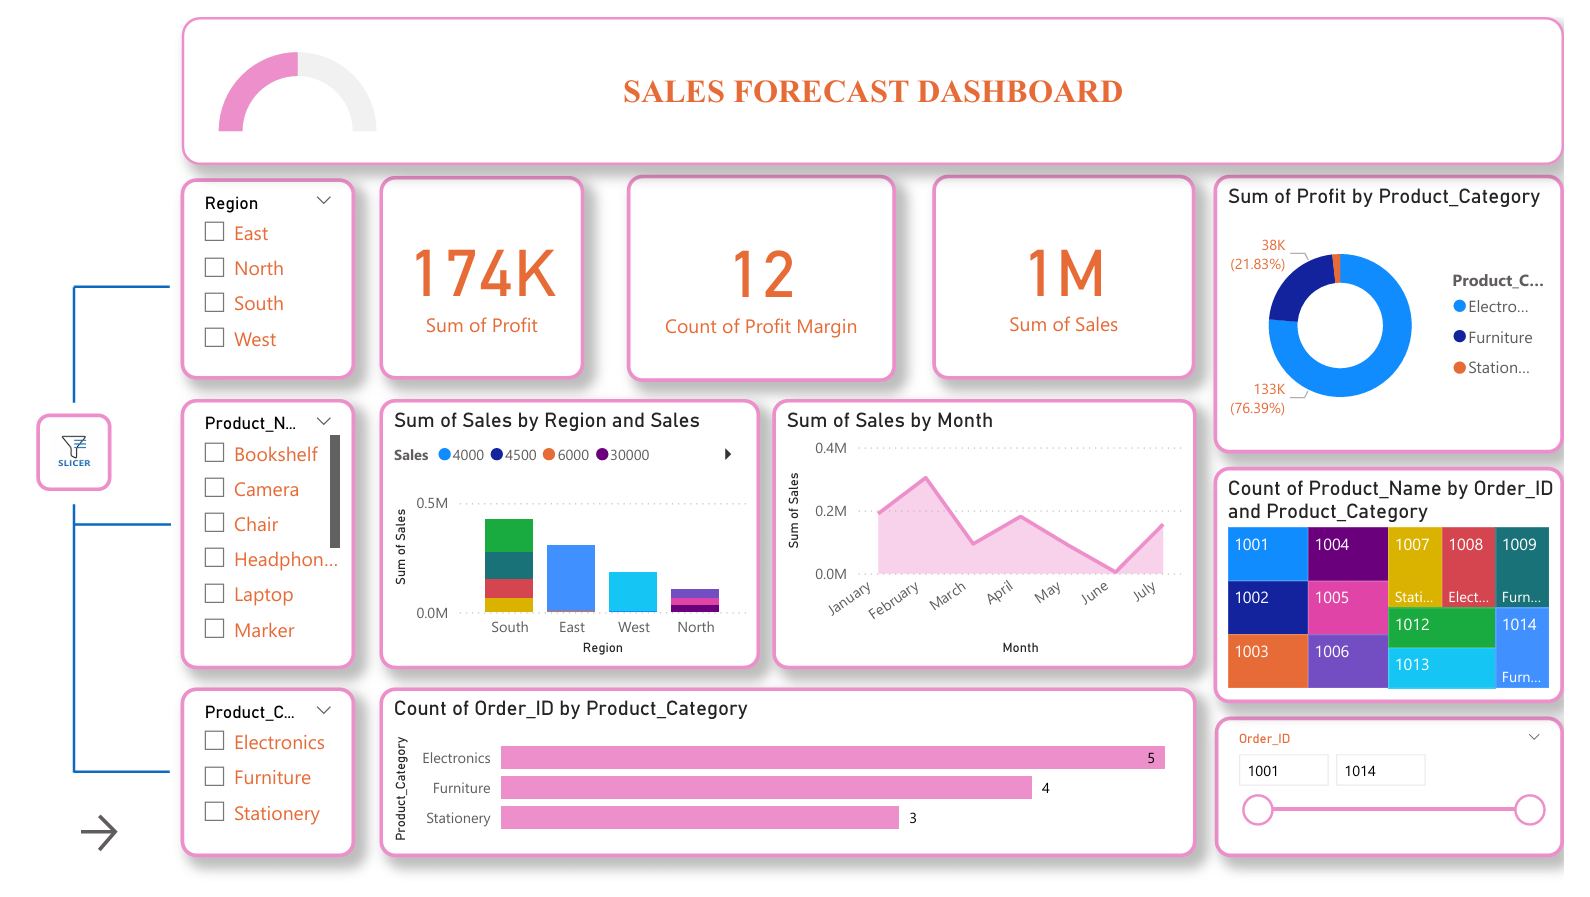

What the dashboard file says about the page in this screenshot:
{"tool":"powerbi","page":{"name":"Page 1","canvas":[1280,720],"ordinal":0},"visuals":[{"type":"card","fields":{"Values":["Sum(Sheet1.Sales)"]},"box":[759.3,129.8,217.1,168.9],"z":0},{"type":"card","fields":{"Values":["Sum(Sheet1.Profit)"]},"box":[303.3,131,168.9,167.7],"z":1000},{"type":"card","fields":{"Values":["CountNonNull(Sheet1.Profit Margin)"]},"box":[506.6,129.8,222.8,171.2],"z":2000},{"type":"columnChart","fields":{"Category":["Sheet1.Region"],"Y":["Sum(Sheet1.Sales)"],"Series":["Sheet1.Sales"]},"box":[303.5,315.1,314,223.3],"z":3000},{"type":"lineChart","fields":{"Y":["Sum(Sheet1.Sales)"],"Category":["Sheet1.Order_Date.Variation.Date Hierarchy.Month"]},"box":[626.7,315.1,350,223.3],"z":4000},{"type":"donutChart","fields":{"Y":["Sum(Sheet1.Profit)"],"Category":["Sheet1.Product_Category"]},"box":[991.3,129.8,288.3,229.7],"z":5000},{"type":"slicer","fields":{"Values":["Sheet1.Region"]},"box":[139,133.2,143.6,165.4],"z":6000},{"type":"slicer","fields":{"Values":["Sheet1.Product_Category"]},"box":[139,552.5,143.6,140.1],"z":7000},{"type":"slicer","fields":{"Values":["Sheet1.Product_Name"]},"box":[139,314.7,143.6,222.8],"z":8000},{"type":"slicer","fields":{"Values":["Sheet1.Order_ID"]},"box":[991.9,576.7,288.4,116.3],"z":9000},{"type":"treemap","fields":{"Group":["Sheet1.Order_ID"],"Values":["CountNonNull(Sheet1.Product_Name)"],"Details":["Sheet1.Product_Category"]},"box":[991.3,371,288.3,195.3],"z":10000},{"type":"textbox","box":[139.5,0,1140.7,122.1],"z":11000},{"type":"image","box":[19.5,327.4,62,63.2],"z":12000},{"type":"shape","box":[50.5,203.3,79.3,39.1],"z":13000},{"type":"shape","box":[11.5,222.8,79.3,95.3],"z":14000},{"type":"shape","box":[51.7,398.6,79.3,39.1],"z":15000},{"type":"shape","box":[50.5,603.1,79.3,39.1],"z":16000},{"type":"shape","box":[11.5,402,79.3,220.5],"z":17000},{"type":"gauge","fields":{"Y":["Sum(Sheet1.Profit)"]},"box":[155.8,24.4,159.3,74.4],"z":18000},{"type":"clusteredBarChart","fields":{"Y":["CountNonNull(Sheet1.Order_ID)"],"Category":["Sheet1.Product_Category"]},"box":[303.5,553.5,673.3,139.5],"z":19000},{"type":"actionButton","box":[51.2,653.5,100,39.5],"z":19001}]}

Visuals, with their boxes in screenshot pixels (x1, y1, x2, y2), scaled from the page's 1280x720 canvas onto the 1590x897 screenshot:
card - Sum(Sheet1.Sales): left=943, top=162, right=1213, bottom=372
card - Sum(Sheet1.Profit): left=377, top=163, right=587, bottom=372
card - CountNonNull(Sheet1.Profit Margin): left=629, top=162, right=906, bottom=375
columnChart - Sheet1.Region x Sum(Sheet1.Sales): left=377, top=393, right=767, bottom=671
lineChart - Sum(Sheet1.Sales) x Sheet1.Order_Date.Variation.Date Hierarchy.Month: left=778, top=393, right=1213, bottom=671
donutChart - Sum(Sheet1.Profit) x Sheet1.Product_Category: left=1231, top=162, right=1589, bottom=448
slicer - Sheet1.Region: left=173, top=166, right=351, bottom=372
slicer - Sheet1.Product_Category: left=173, top=688, right=351, bottom=863
slicer - Sheet1.Product_Name: left=173, top=392, right=351, bottom=670
slicer - Sheet1.Order_ID: left=1232, top=718, right=1589, bottom=863
treemap - Sheet1.Order_ID x CountNonNull(Sheet1.Product_Name): left=1231, top=462, right=1589, bottom=706
textbox: left=173, top=0, right=1589, bottom=152
image: left=24, top=408, right=101, bottom=487
shape: left=63, top=253, right=161, bottom=302
shape: left=14, top=278, right=113, bottom=396
shape: left=64, top=497, right=163, bottom=545
shape: left=63, top=751, right=161, bottom=800
shape: left=14, top=501, right=113, bottom=776
gauge - Sum(Sheet1.Profit): left=194, top=30, right=391, bottom=123
clusteredBarChart - CountNonNull(Sheet1.Order_ID) x Sheet1.Product_Category: left=377, top=690, right=1213, bottom=863
actionButton: left=64, top=814, right=188, bottom=863
